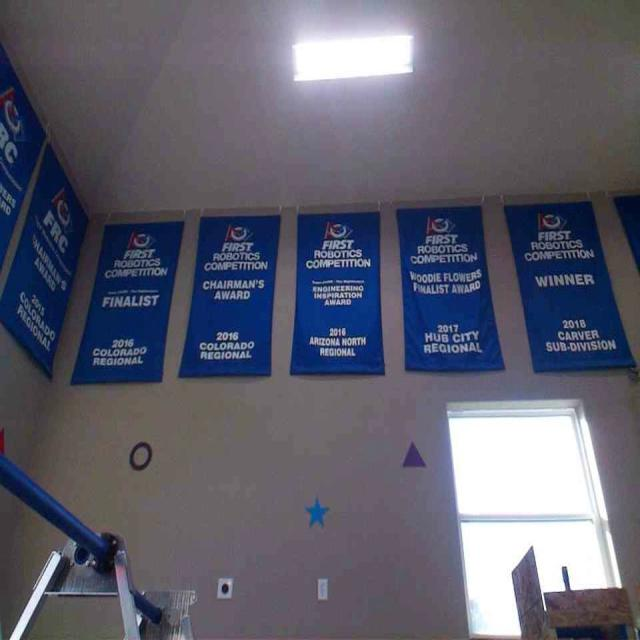ring_black: (128, 440, 153, 470)
star_blue: (303, 492, 330, 528)
triangle_purple: (401, 440, 425, 468)
